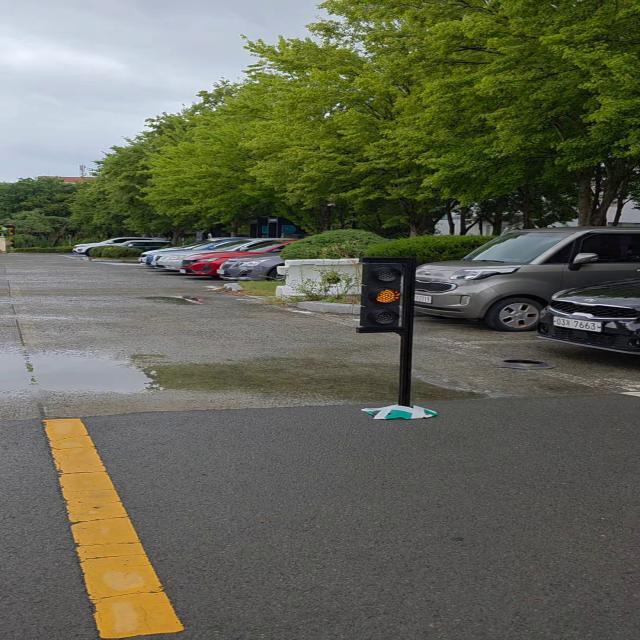yellow: (364, 258, 414, 336)
